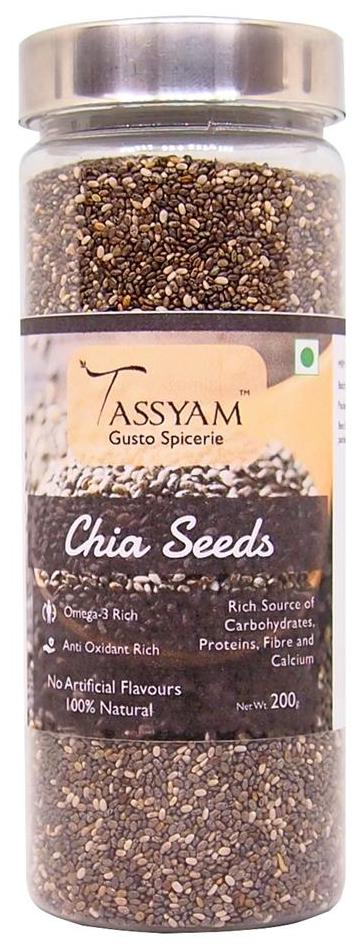JAR: (9, 6, 356, 930)
